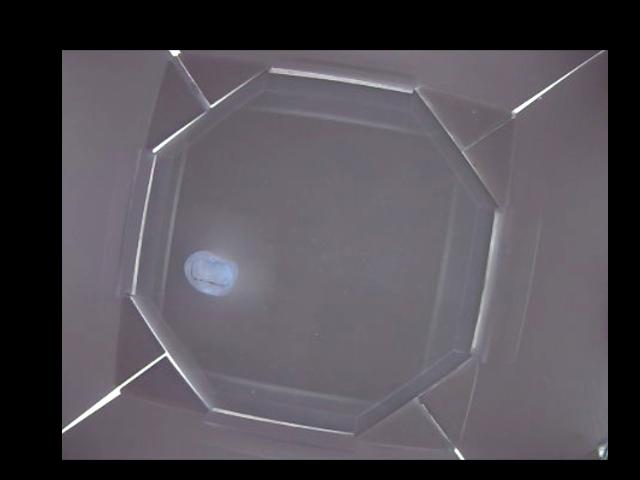Pebble: (183, 251, 236, 294)
